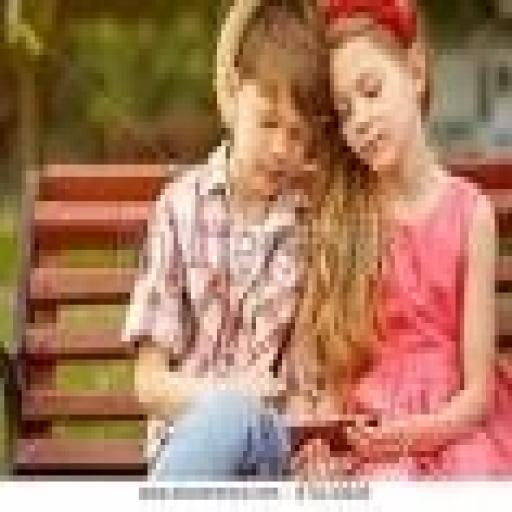sleeping: (286, 0, 508, 482)
